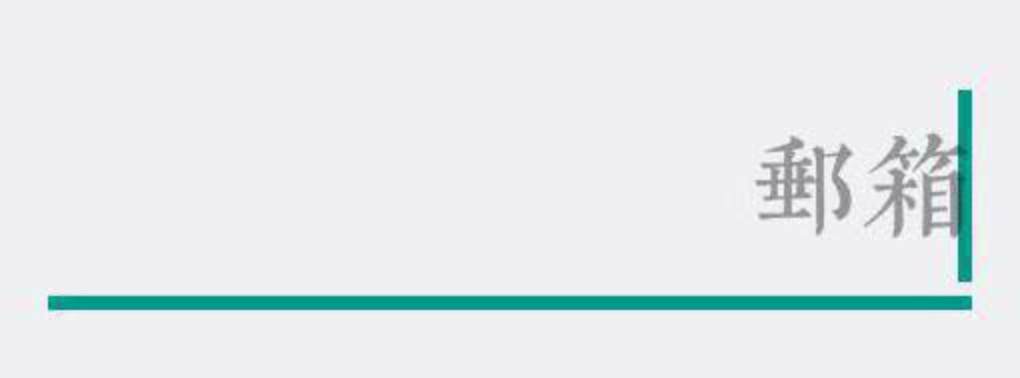EditText: (1, 1, 1019, 377)
